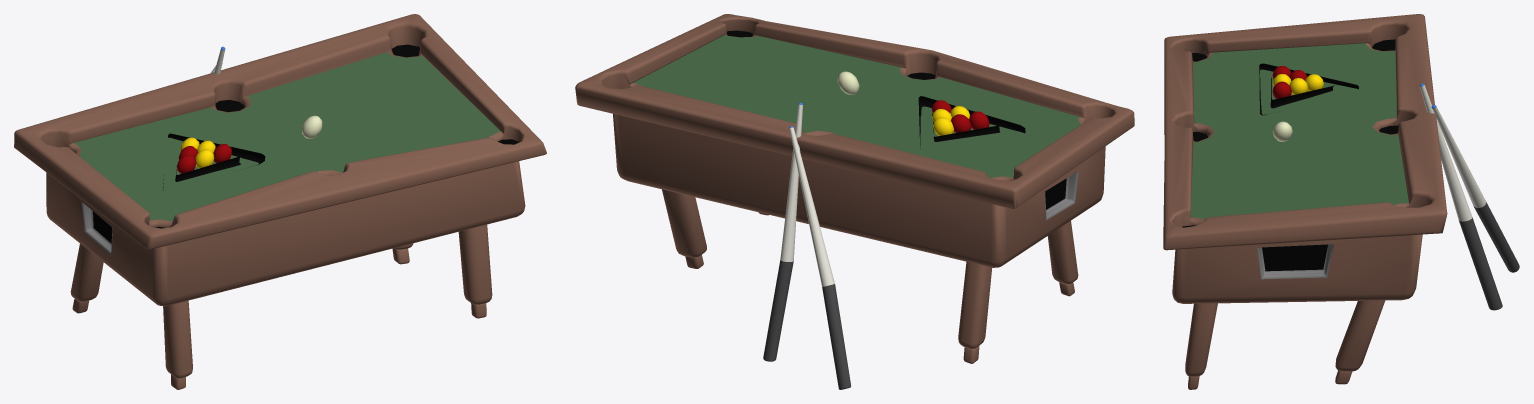
File: props_billardPool.fbx
3 views of the same model, side by side, from view 1: azimuth 30°, elevation 25°; view 2: azimuth 150°, elevation 25°; view 3: azimuth 270°, elevation 25° (orthographic). The views are drawn at different scales.
Parts seen in each view (by area): view 1: Cube.081, grand horizontal.006, grand horizontal.007, Sphere.019, Sphere.014, grand horizontal.008; view 2: Cube.081, grand horizontal.006, Cylinder.048, Cylinder.052, grand horizontal.007, Sphere.019, Sphere.014, grand horizontal.008; view 3: Cube.081, grand horizontal.006, grand horizontal.007, Cylinder.052, Cylinder.048, grand horizontal.008, Sphere.014, Sphere.019, Sphere.020.
Part boxes in pixels (x1=…): Cube.081: x1=14, y1=14, x2=546, y2=389; grand horizontal.006: x1=74, y1=52, x2=500, y2=221; grand horizontal.007: x1=93, y1=44, x2=519, y2=243; Sphere.019: x1=176, y1=144, x2=232, y2=173; Sphere.014: x1=180, y1=137, x2=215, y2=168; grand horizontal.008: x1=81, y1=201, x2=112, y2=254; Cube.081: x1=575, y1=14, x2=1134, y2=363; grand horizontal.006: x1=633, y1=35, x2=1080, y2=177; Cylinder.048: x1=780, y1=104, x2=834, y2=286; Cylinder.052: x1=763, y1=260, x2=850, y2=389; grand horizontal.007: x1=727, y1=30, x2=1066, y2=209; Sphere.019: x1=931, y1=100, x2=989, y2=132; Sphere.014: x1=932, y1=106, x2=969, y2=135; grand horizontal.008: x1=1044, y1=171, x2=1078, y2=220; Cube.081: x1=1163, y1=14, x2=1447, y2=389; grand horizontal.006: x1=1190, y1=43, x2=1408, y2=219; grand horizontal.007: x1=1182, y1=39, x2=1398, y2=271; Cylinder.052: x1=1459, y1=201, x2=1519, y2=310; Cylinder.048: x1=1420, y1=85, x2=1486, y2=221; grand horizontal.008: x1=1257, y1=244, x2=1333, y2=279; Sphere.014: x1=1272, y1=74, x2=1323, y2=94; Sphere.019: x1=1272, y1=66, x2=1307, y2=98; Sphere.020: x1=1272, y1=121, x2=1292, y2=141.
Bounding box in the file's own units: 269 × 140 × 194.
